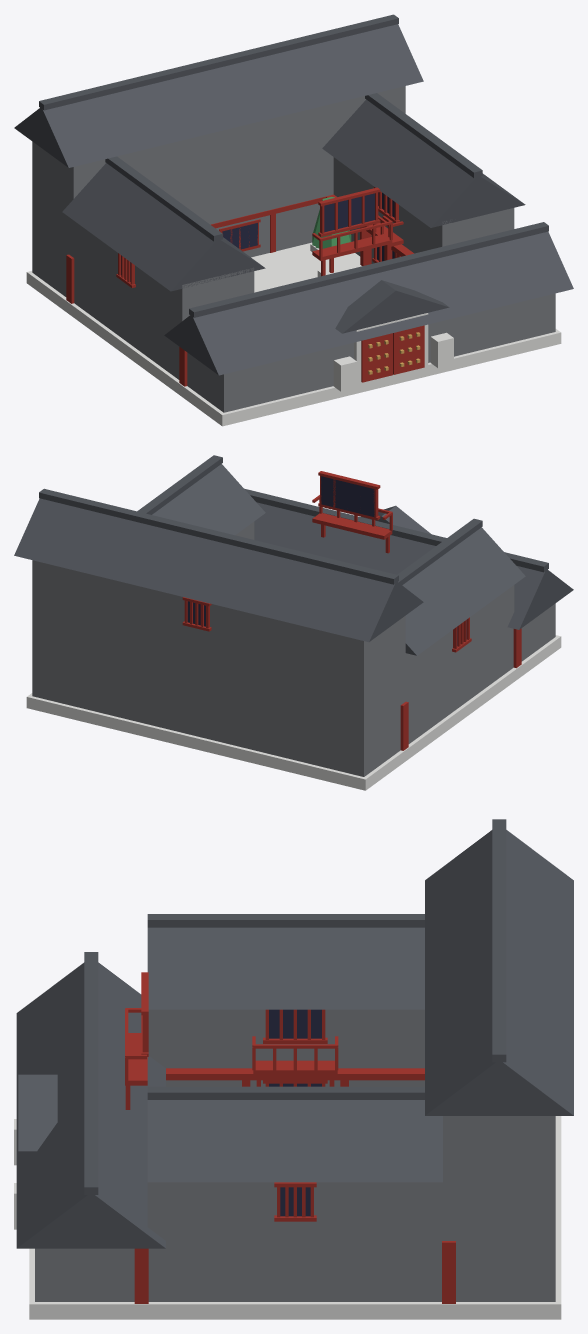
Rendered from house-2x2-3f-siheyuan-a.glb.
3 renders of one model, top to bottom at view 1: azimuth 30°, elevation 25°; view 2: azimuth 150°, elevation 25°; view 3: azimuth 270°, elevation 25°, orthographic. The views are drawn at different scales.
Visible parts, largest first — view 1: house-2x2-3f-siheyuan-a; view 2: house-2x2-3f-siheyuan-a; view 3: house-2x2-3f-siheyuan-a.
Boxes of the visible parts, bbox=[...] form: house-2x2-3f-siheyuan-a: bbox=[14, 14, 573, 426]; house-2x2-3f-siheyuan-a: bbox=[14, 455, 573, 790]; house-2x2-3f-siheyuan-a: bbox=[14, 819, 573, 1319].
Size of the model in its own units: 1.98 by 1.06 by 1.99.
Materials: 1 (1 with a texture image).
